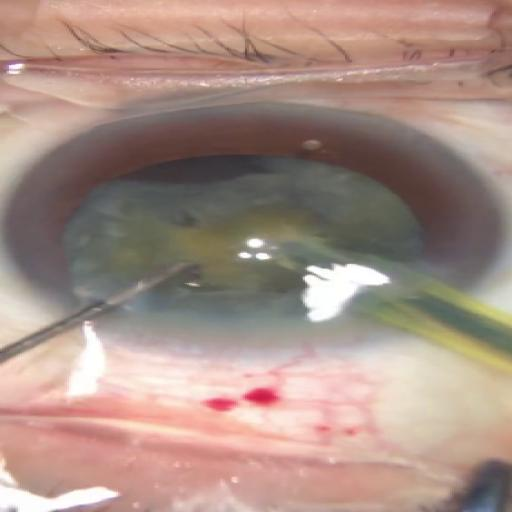catarata: (73, 164, 417, 339)
cornea: (15, 106, 510, 378)
pupil: (67, 162, 428, 365)
